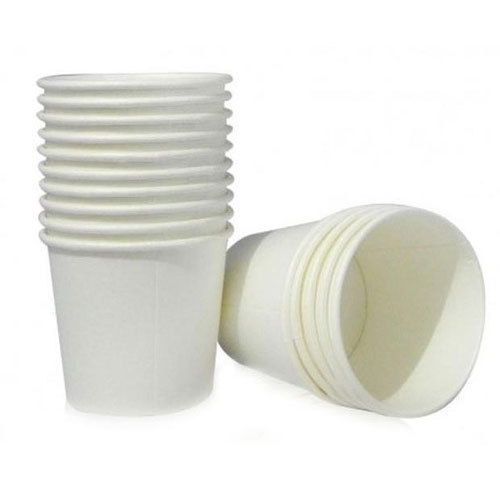plastic_bottle: (220, 205, 495, 416), (35, 230, 233, 423)
